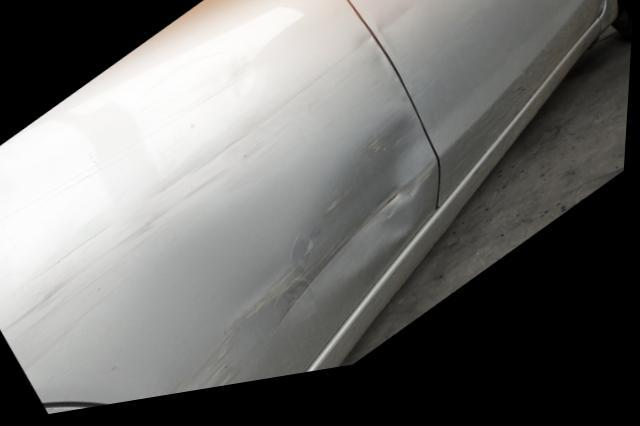dent: (291, 121, 439, 301)
scratch: (0, 49, 394, 375), (161, 281, 313, 403)
